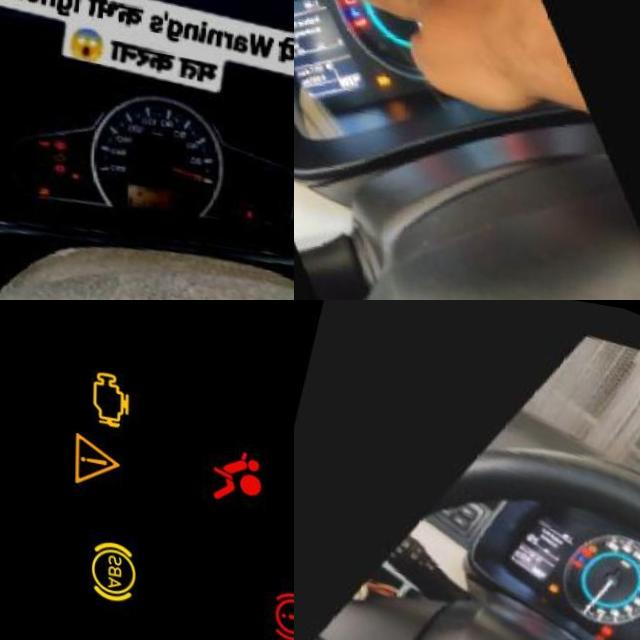Engine cooling system: (347, 1, 360, 15), (585, 538, 594, 546)
